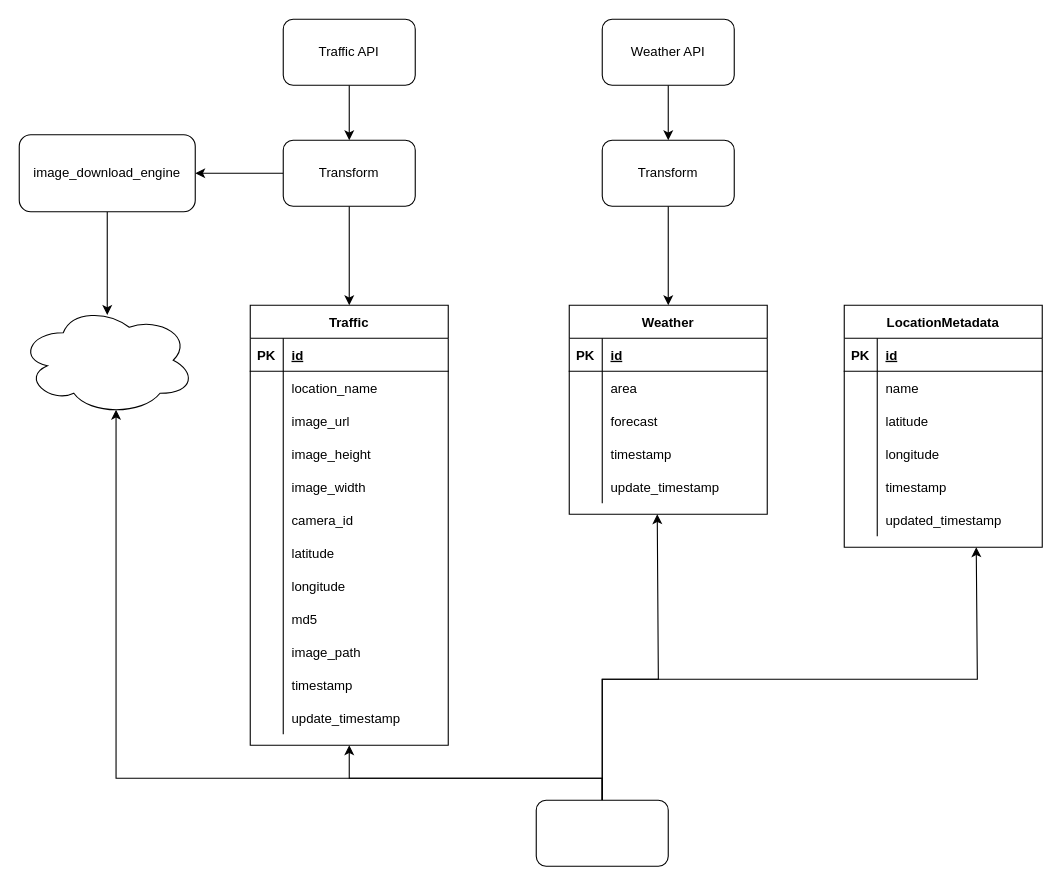
Image size: 1062x886. Some labels were removed from this diagram. The centre of each missing label's shape, as x and y in pixels:
"Initial Seed" belongs at (601,832).
"Storage" belongs at (106,359).
